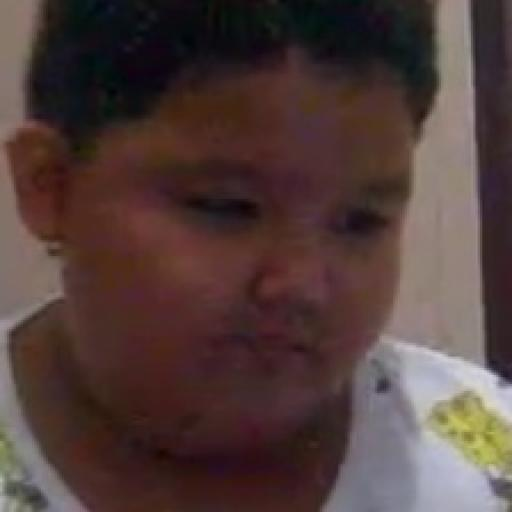Autism: (49, 2, 444, 500)
